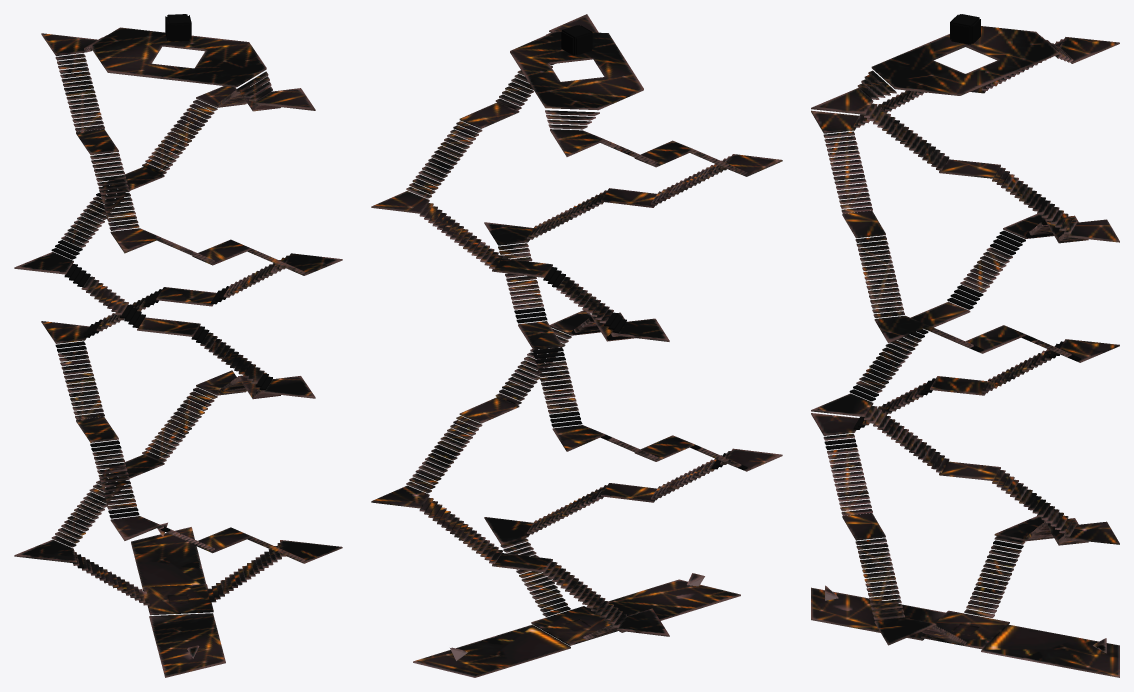
File: lestnica.glb
3 renders of one model, left to right at view 1: azimuth 30°, elevation 25°; view 2: azimuth 150°, elevation 25°; view 3: azimuth 270°, elevation 25°, orthographic. The views are drawn at different scales.
Visible parts, largest first — view 1: NFT_gallery_01; view 2: NFT_gallery_01; view 3: NFT_gallery_01.
Boxes of the visible parts, left/top/right/bottom form: NFT_gallery_01: left=14, top=14, right=342, bottom=677; NFT_gallery_01: left=371, top=14, right=782, bottom=677; NFT_gallery_01: left=811, top=14, right=1119, bottom=677.
Bounding box in the file's own units: 50.45 × 111 × 50.45.
Materials: 1 (1 with a texture image).
